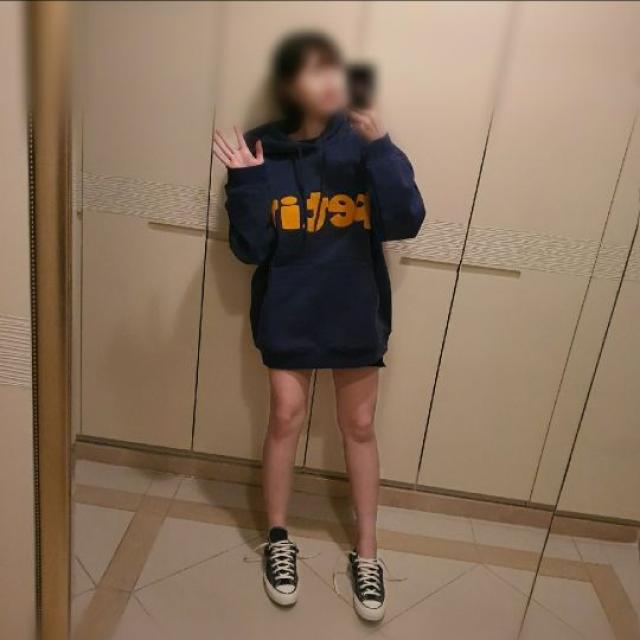hoodies: (224, 115, 424, 371)
